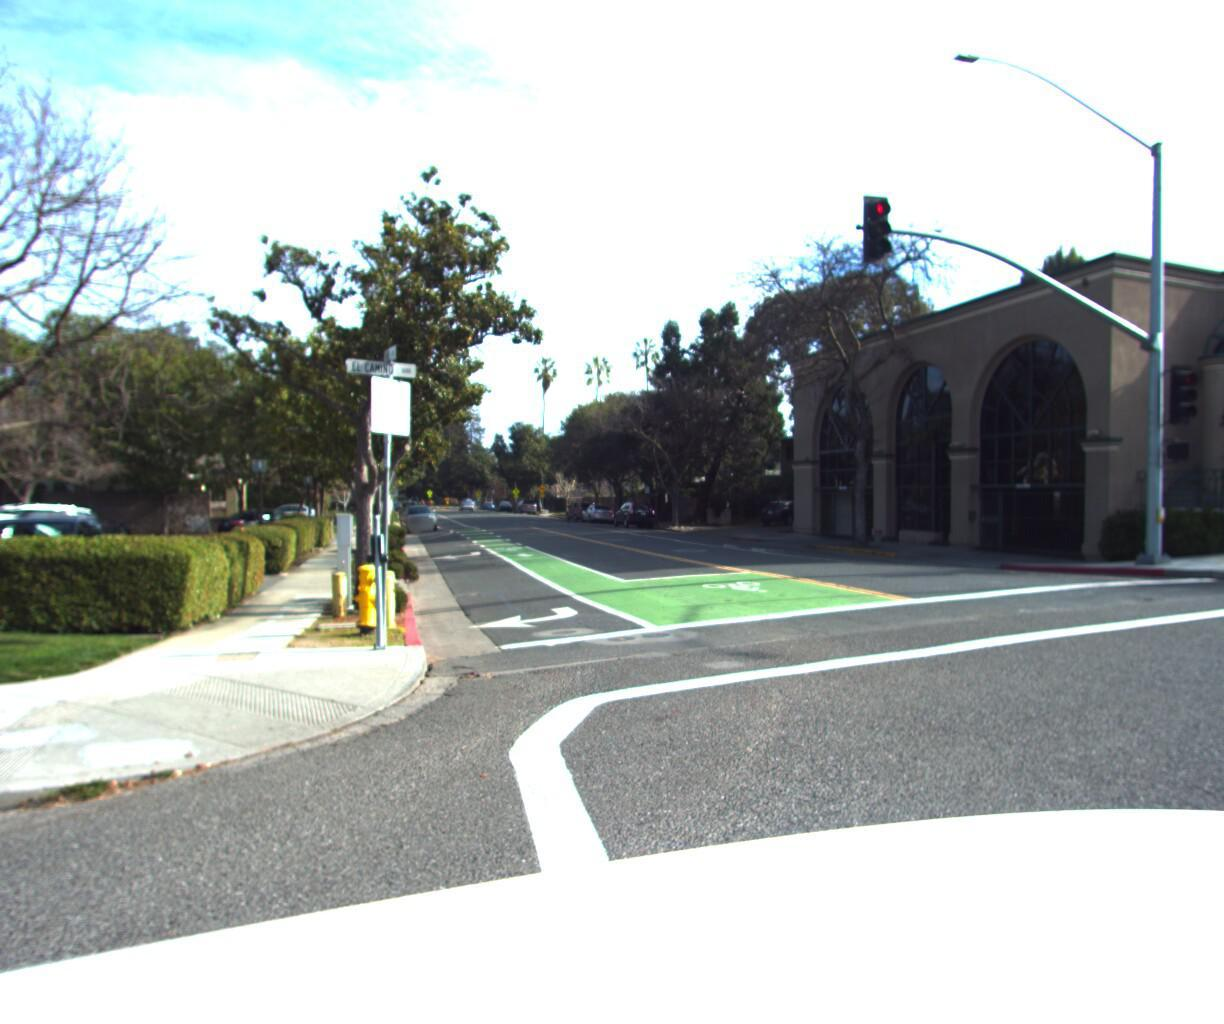car: (0, 502, 183, 633), (0, 500, 100, 579), (0, 491, 115, 552), (20, 499, 136, 540), (230, 499, 338, 534), (759, 491, 830, 519), (249, 494, 327, 518), (610, 491, 662, 522), (402, 496, 441, 526), (579, 492, 618, 518)
